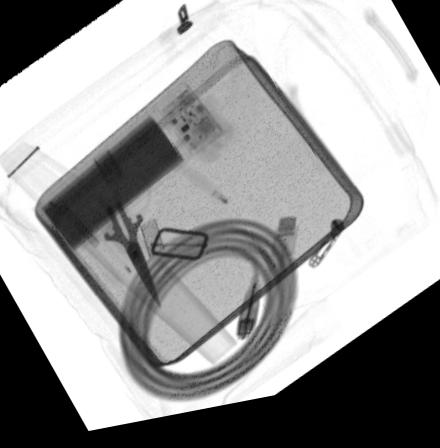Powerbank: (35, 84, 223, 258)
Scissors: (74, 176, 163, 316)
